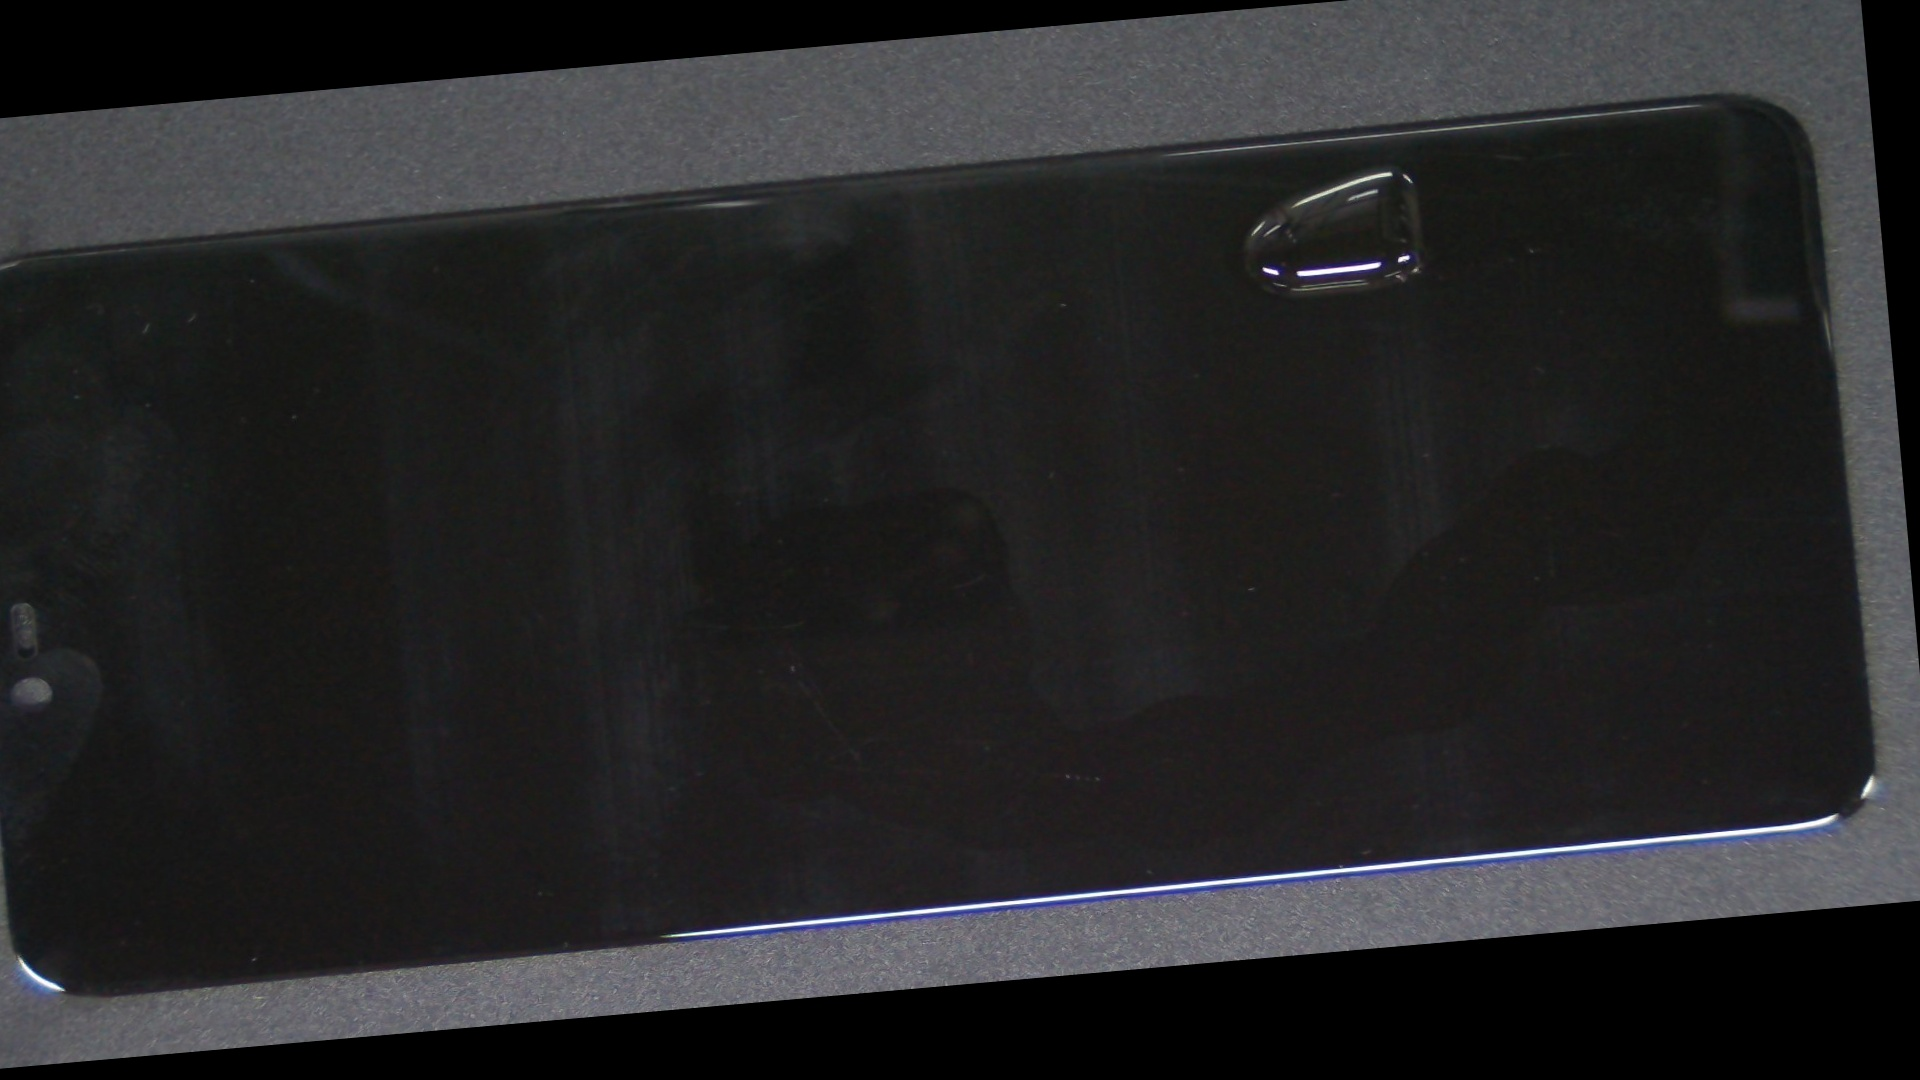oil: (621, 38, 1879, 314)
